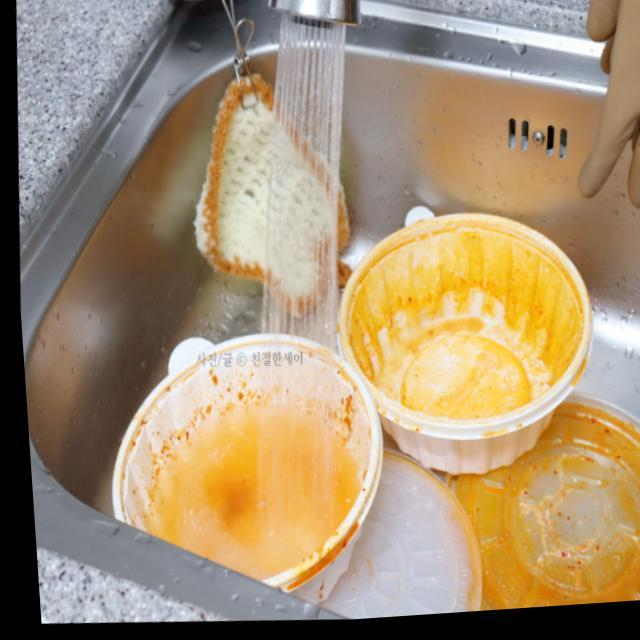bottle: (92, 319, 389, 598), (326, 218, 612, 480)
